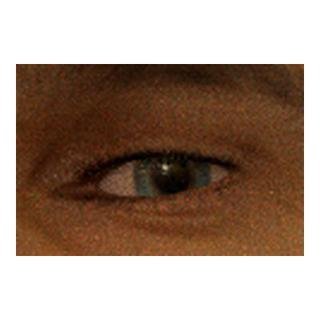pupil: (156, 160, 190, 194)
